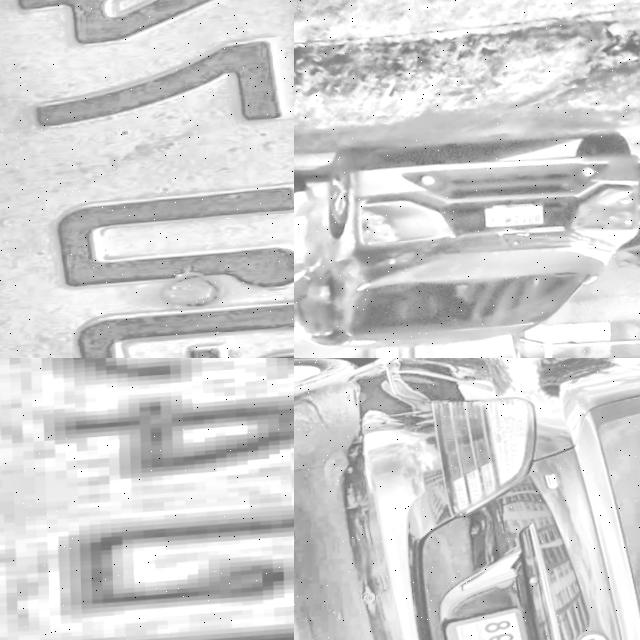license-plate: (0, 0, 294, 358), (0, 358, 294, 640), (434, 613, 552, 640)
